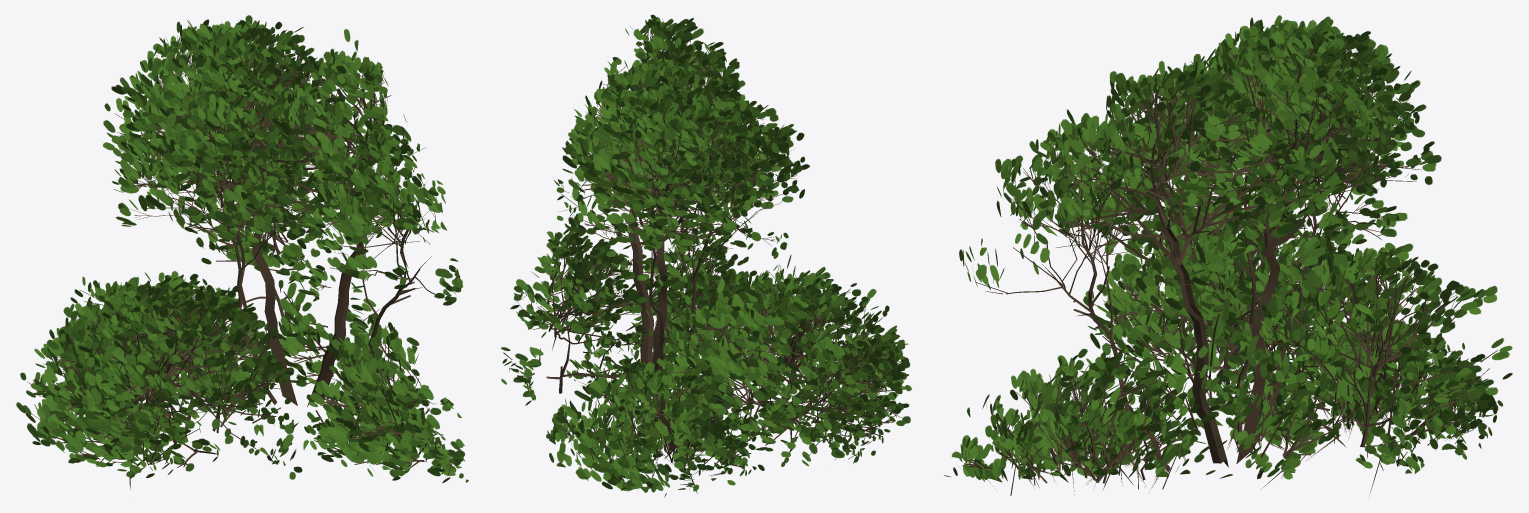
3 renders of one model, left to right at view 1: azimuth 30°, elevation 25°; view 2: azimuth 150°, elevation 25°; view 3: azimuth 270°, elevation 25°, orthographic. The views are drawn at different scales.
Parts seen in each view (by area): view 1: oak 01.001_trunk_Mat.001_0.495; view 2: oak 01.001_trunk_Mat.001_0.495; view 3: oak 01.001_trunk_Mat.001_0.495.
Part boxes in pixels (x1=…): oak 01.001_trunk_Mat.001_0.495: x1=16, y1=15, x2=468, y2=489; oak 01.001_trunk_Mat.001_0.495: x1=501, y1=14, x2=911, y2=497; oak 01.001_trunk_Mat.001_0.495: x1=944, y1=15, x2=1512, y2=495.
Size of the model in its own units: 4.17 by 4.89 by 5.71.
Materials: 2 (1 with a texture image).
